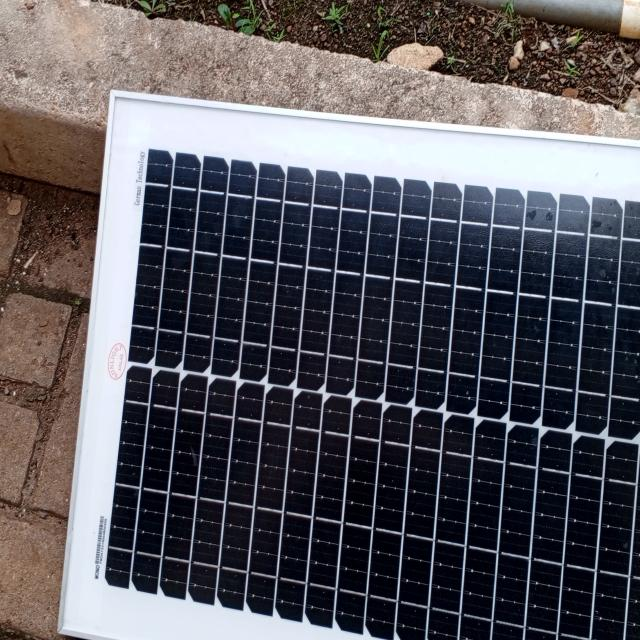Clean: (130, 122, 640, 638)
